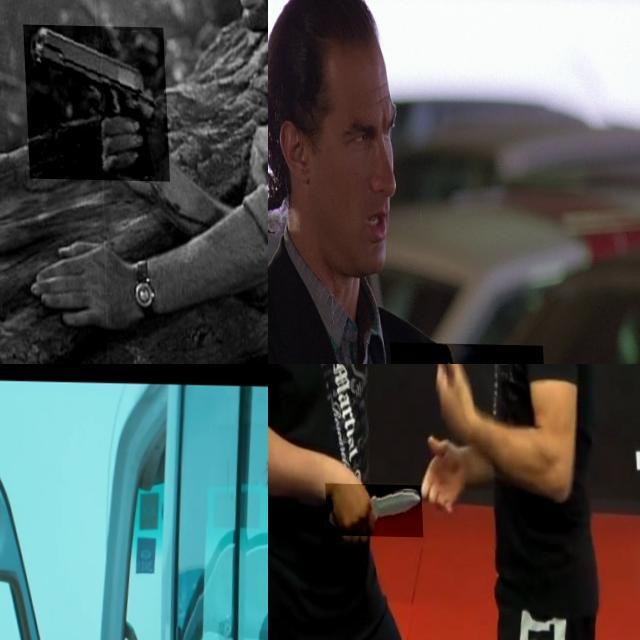-: (321, 482, 419, 536)
gun-knife-thesis - v11 Yolov5 augmented: (20, 24, 166, 181)
